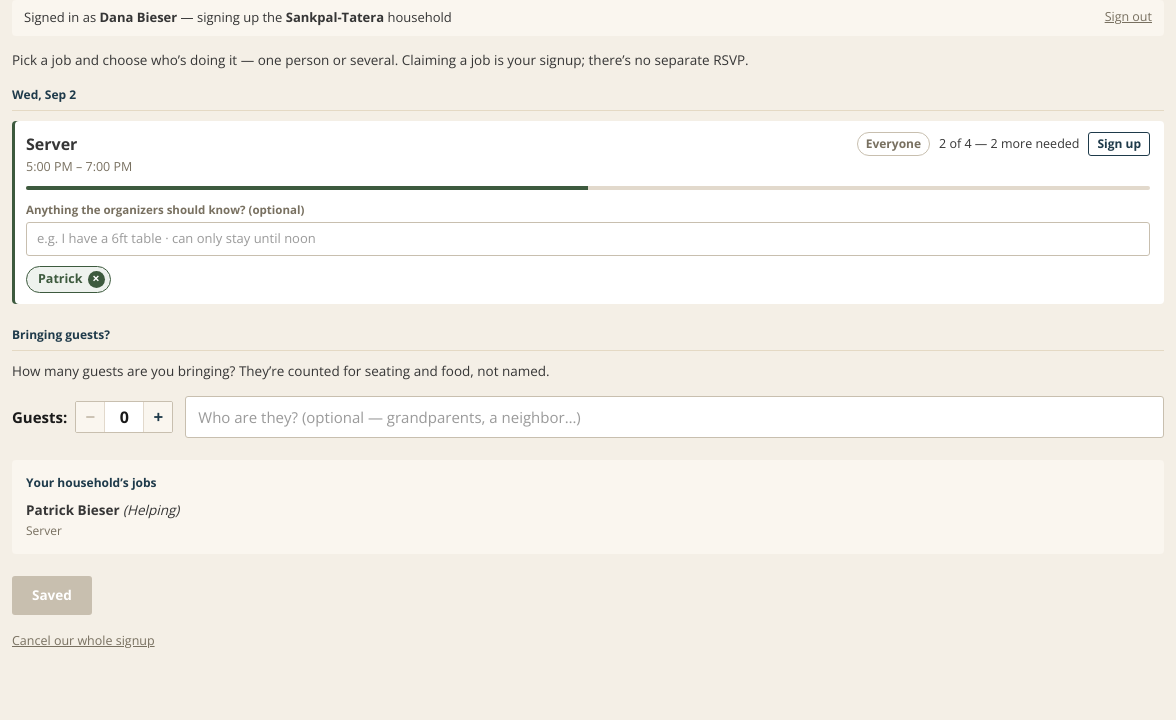
Scenario: slot-first form — guests (Patrick, 2026-08-23: "I added the guest Fred Pike and clicked Save Changes, nothing happened") › CountMode_ShowsTheNumber_HidesNamedRows_AndRidesOnTheHelpingEntry
Replace the text in the number field named "number of guests" with "3": (124, 417) [104, 402, 144, 432]
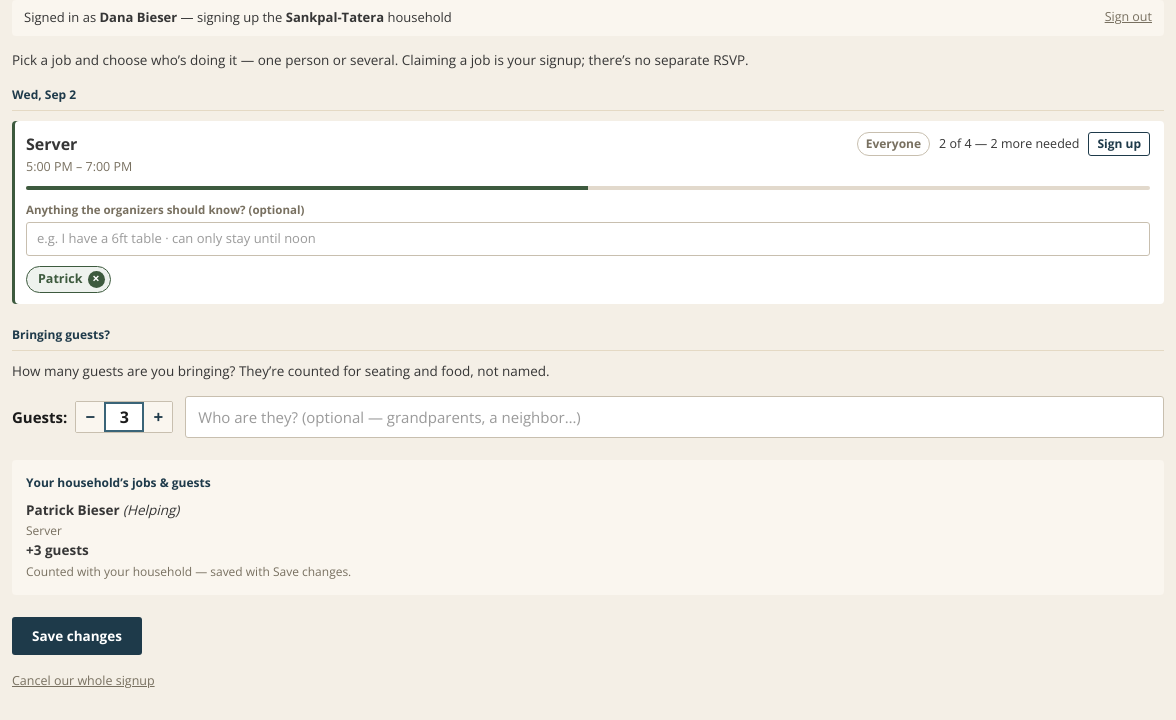
Expected: the button "Save changes" is enabled, [12, 617, 142, 655]
